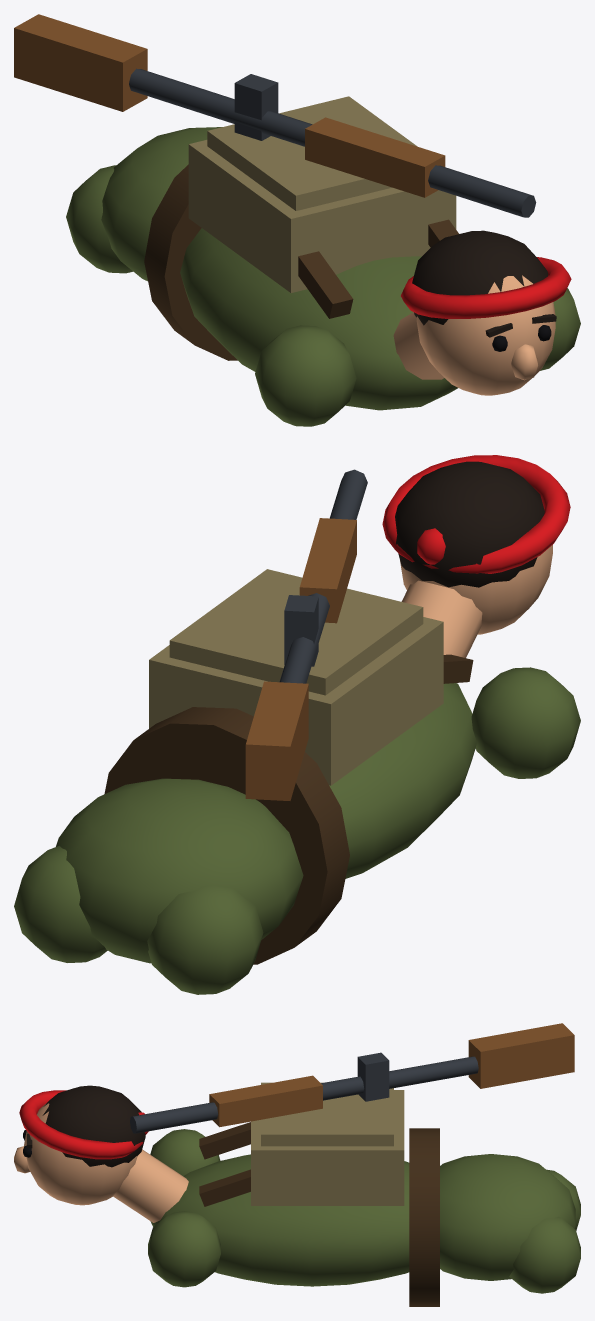
Rendered from commando_body.obj.
The picture shows the model from 3 angles, top to bottom: view 1: azimuth 30°, elevation 25°; view 2: azimuth 150°, elevation 25°; view 3: azimuth 270°, elevation 25°; orthographic projection. The views are drawn at different scales.
Visible parts, largest first — view 1: body; view 2: body; view 3: body.
Boxes of the visible parts, bbox=[...] form: body: bbox=[14, 14, 580, 426]; body: bbox=[14, 455, 580, 994]; body: bbox=[14, 1023, 580, 1306].
Bounding box in the file's own units: 1.17 × 1.08 × 2.44.
